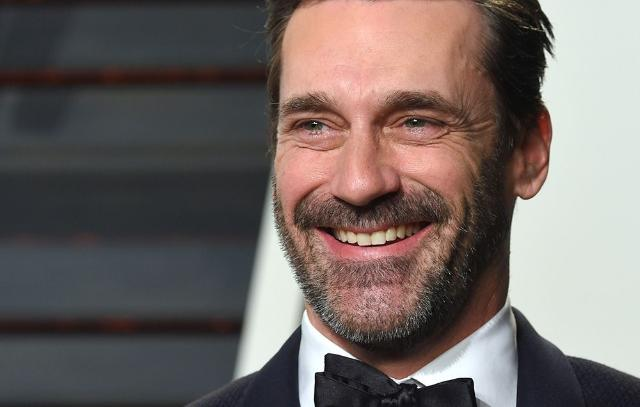crows_feet: (446, 117, 469, 147), (279, 126, 297, 156)
gummy_smile: (398, 170, 436, 194), (294, 179, 330, 201)
